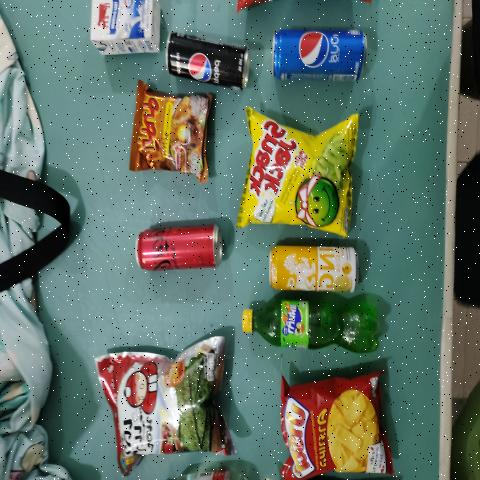coke_red: (132, 217, 226, 273)
fanta_green: (245, 297, 395, 343)
mama: (134, 95, 209, 171)
party_red: (278, 388, 389, 473)
pepsi_black: (166, 36, 255, 88)
pepsi_blue: (274, 27, 371, 81)
singha_yellow: (266, 242, 364, 290)
snack_jack: (243, 111, 363, 228)
taokaenoi: (99, 333, 227, 467)
thai_denmark: (84, 0, 160, 59)
